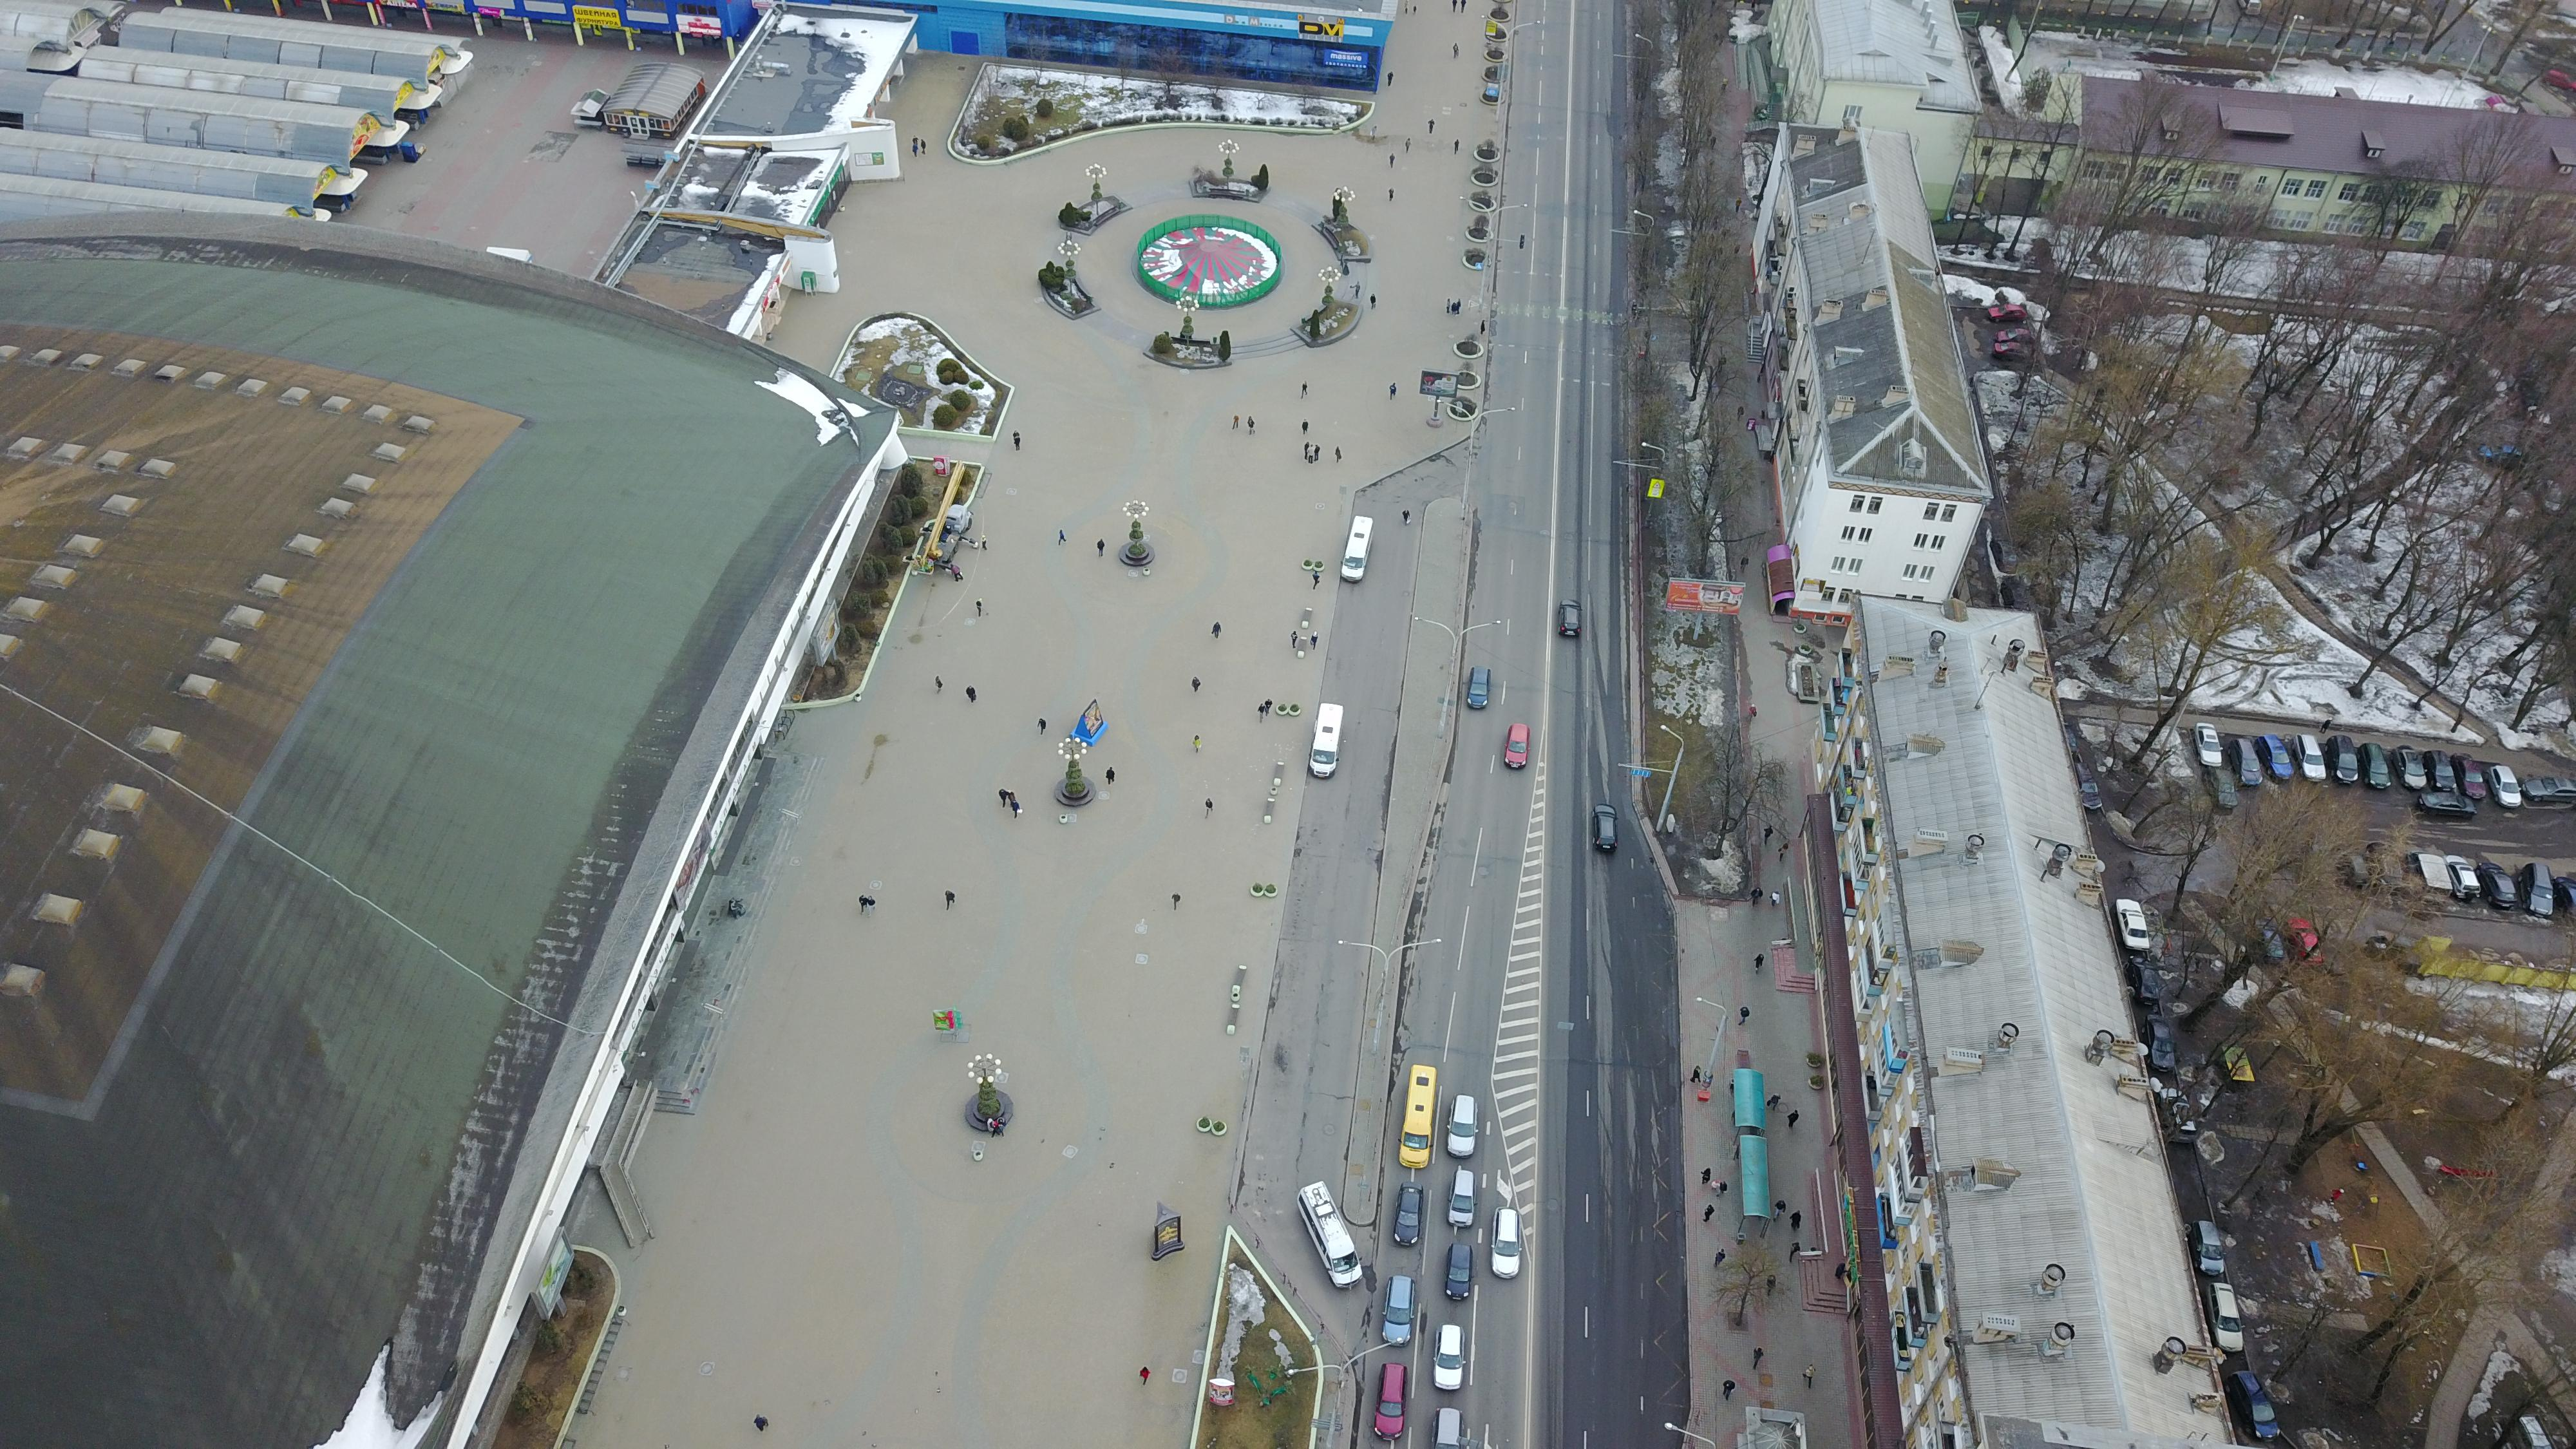car: (1369, 1359, 1410, 1442), (1378, 1272, 1419, 1346), (1488, 1205, 1523, 1281), (1431, 1322, 1467, 1394), (1445, 1090, 1483, 1159), (1389, 1180, 1426, 1249), (1442, 1166, 1481, 1231), (1585, 800, 1624, 856), (1440, 1240, 1476, 1300), (1499, 717, 1532, 771), (1463, 662, 1491, 713), (1555, 594, 1583, 642)
